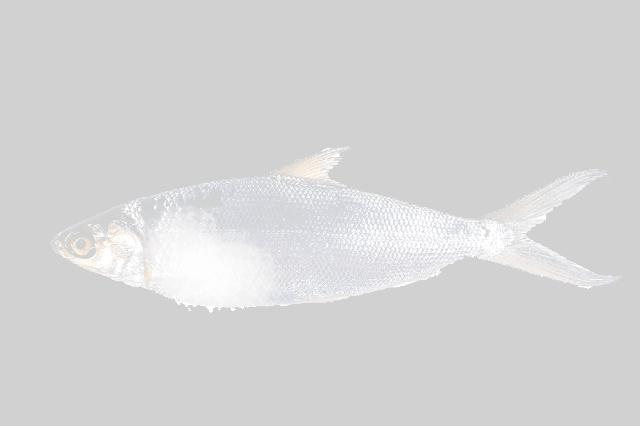Fungal Disease -Saprolegniasis-: (51, 148, 617, 311), (51, 148, 616, 311)
